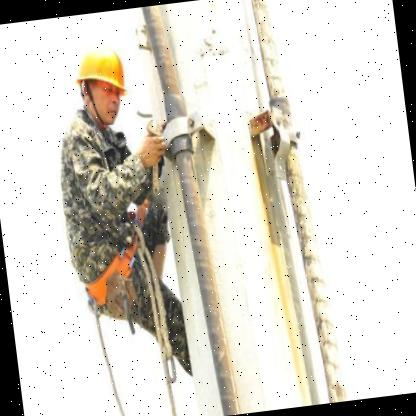capacete: (70, 38, 129, 104)
